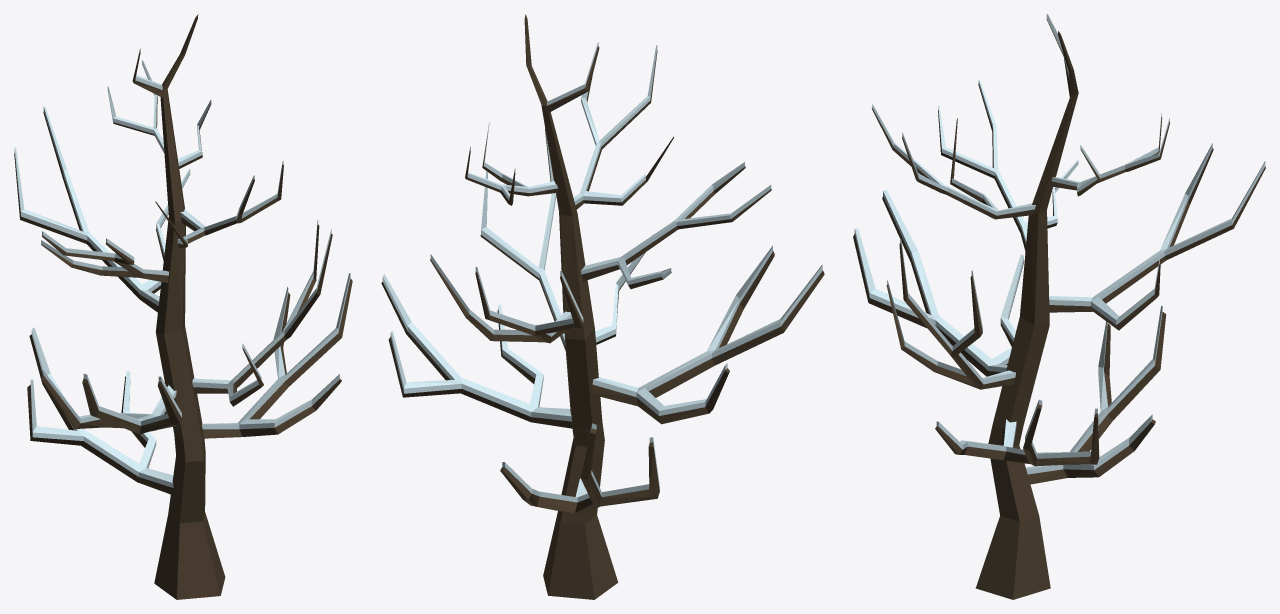
The model's file is SM_Env_TreeDead_02_Snow.gltf.
3 views of the same model, side by side, from view 1: azimuth 30°, elevation 25°; view 2: azimuth 150°, elevation 25°; view 3: azimuth 270°, elevation 25° (orthographic). The views are drawn at different scales.
Visible parts, largest first — view 1: SM_Env_TreeDead_02_Snow; view 2: SM_Env_TreeDead_02_Snow; view 3: SM_Env_TreeDead_02_Snow.
Part boxes in pixels (x1=…): SM_Env_TreeDead_02_Snow: x1=14, y1=14, x2=352, y2=599; SM_Env_TreeDead_02_Snow: x1=381, y1=14, x2=824, y2=599; SM_Env_TreeDead_02_Snow: x1=853, y1=14, x2=1265, y2=599.
Size of the model in its own units: 4.32 by 6.57 by 4.34.
1 material, 1 textured.
